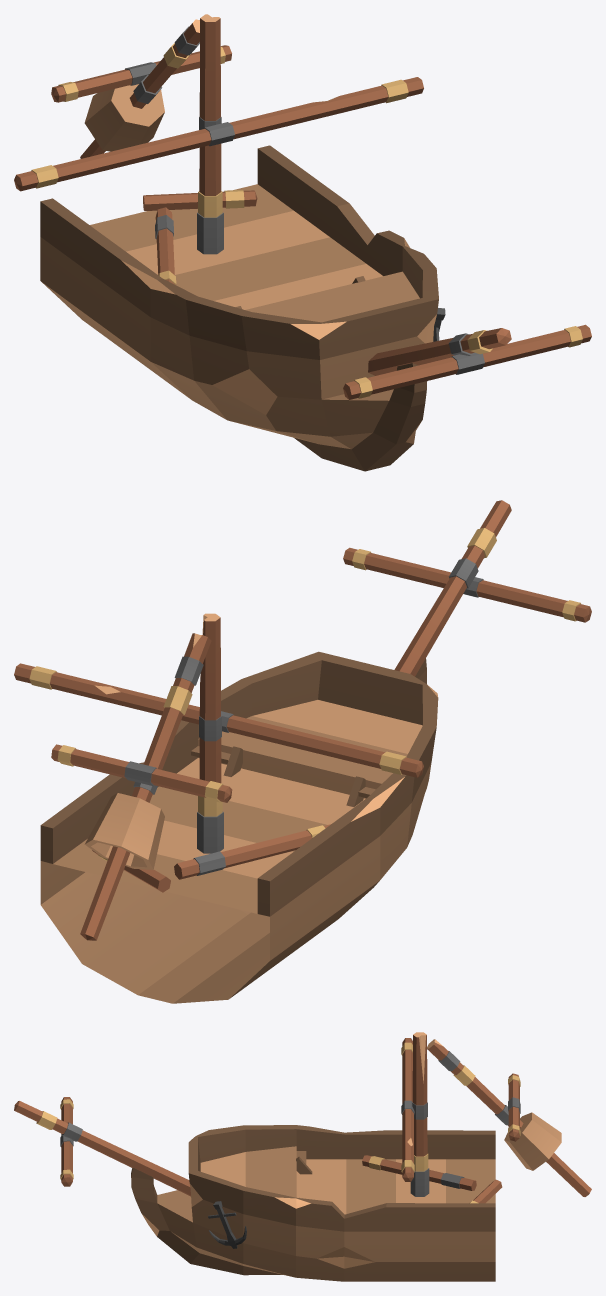
Rendered from destroyed-ship.glb.
3 renders of one model, top to bottom at view 1: azimuth 30°, elevation 25°; view 2: azimuth 150°, elevation 25°; view 3: azimuth 270°, elevation 25°, orthographic. The views are drawn at different scales.
Visible parts, largest first — view 1: destroyed ship; view 2: destroyed ship; view 3: destroyed ship.
Part boxes in pixels (x1,y1,x2,y2): destroyed ship: (14,14,591,471); destroyed ship: (14,500,591,1003); destroyed ship: (14,1032,591,1281).
Size of the model in its own units: 10.76 by 8.66 by 19.34.
1 material, 1 textured.
